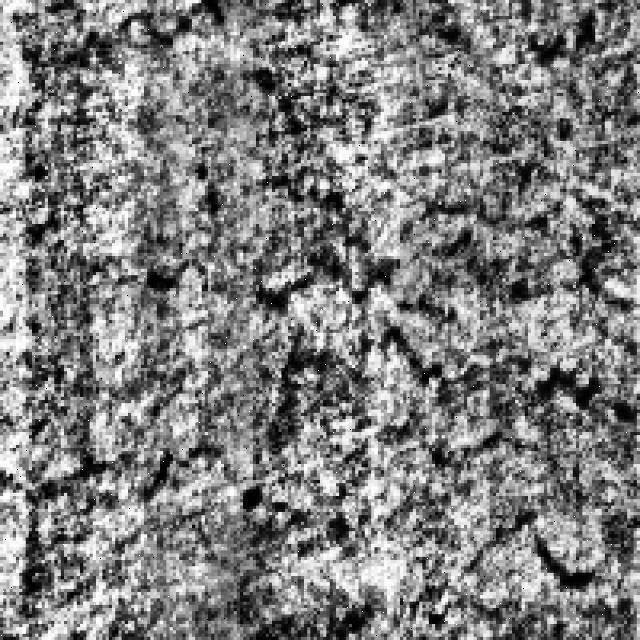Pitted_Surface: (246, 150, 624, 452), (112, 432, 602, 618)
